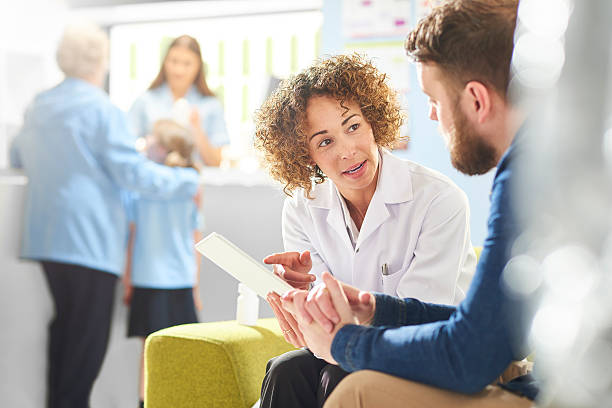without mask: (407, 47, 530, 175), (291, 90, 388, 198), (149, 33, 221, 95), (69, 31, 141, 93)
